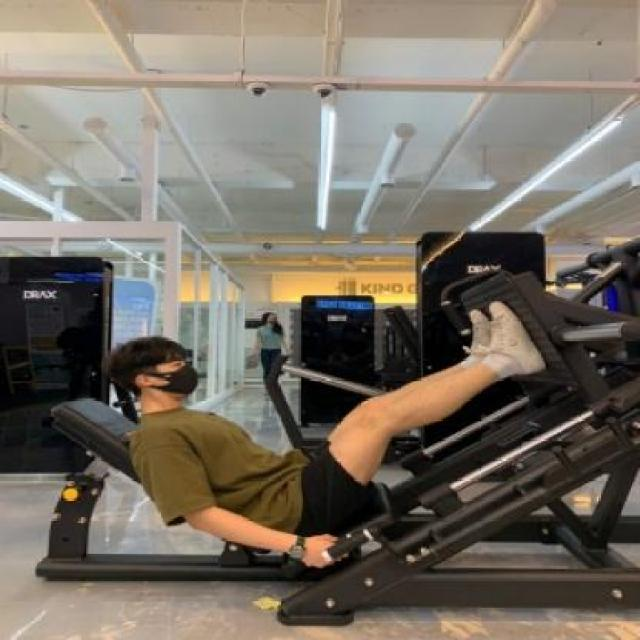leg press: (18, 203, 640, 640)
